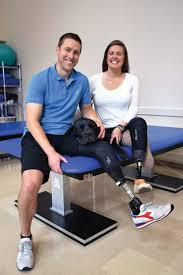Person: (19, 27, 88, 275), (95, 42, 160, 187)
